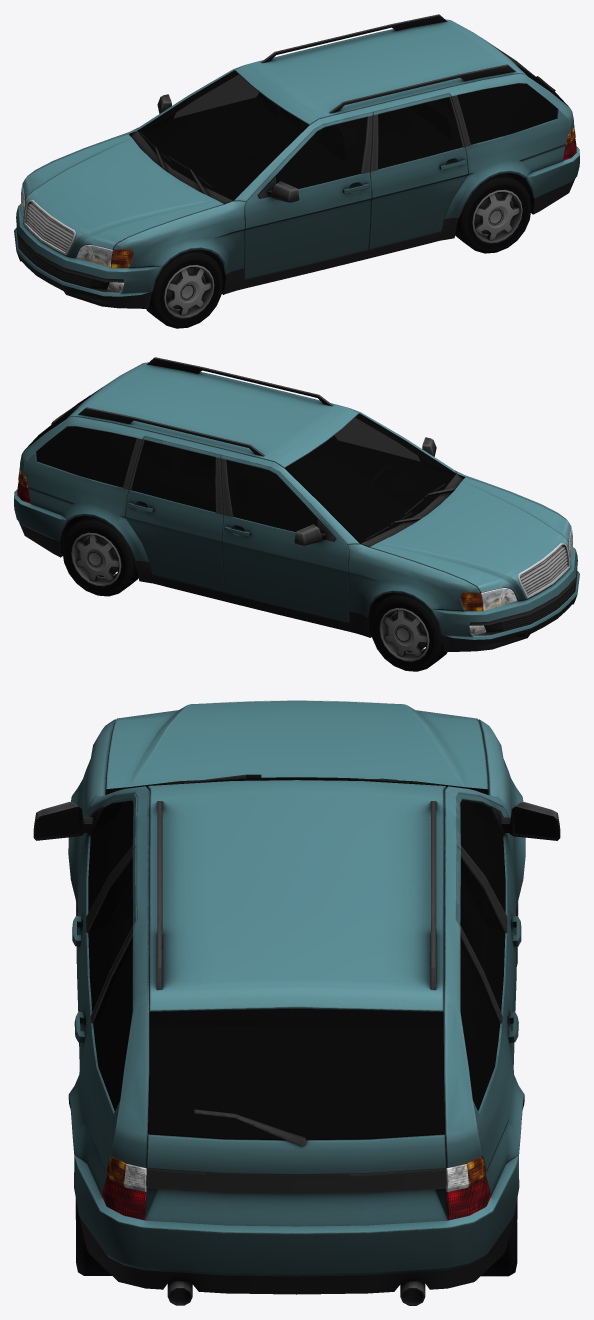
Rendered from lightblueCar.glb.
3 renders of one model, top to bottom at view 1: azimuth 30°, elevation 25°; view 2: azimuth 150°, elevation 25°; view 3: azimuth 270°, elevation 25°, orthographic. The views are drawn at different scales.
Visible parts, largest first — view 1: Wagon Body_Body_0.001, Wagon Body_Glass_0.001, Wheel_A001_Wheel_0.002, Wheel_A_Wheel_0.002, Wagon Body_Optics_0.001; view 2: Wagon Body_Body_0.001, Wagon Body_Glass_0.001, Wheel_A003_Wheel_0.002, Wheel_A002_Wheel_0.002, Wagon Body_Optics_0.001; view 3: Wagon Body_Body_0.001, Wagon Body_Glass_0.001, Wagon Body_Optics_0.001, Wheel_A003_Wheel_0.002, Wheel_A001_Wheel_0.002.
Boxes of the visible parts, left/top/right/bottom form: Wagon Body_Body_0.001: left=14, top=14, right=579, bottom=308; Wagon Body_Glass_0.001: left=137, top=37, right=569, bottom=200; Wheel_A001_Wheel_0.002: left=455, top=173, right=531, bottom=253; Wheel_A_Wheel_0.002: left=146, top=249, right=223, bottom=328; Wagon Body_Optics_0.001: left=21, top=124, right=576, bottom=292; Wagon Body_Body_0.001: left=14, top=357, right=579, bottom=651; Wagon Body_Glass_0.001: left=25, top=381, right=456, bottom=543; Wheel_A003_Wheel_0.002: left=62, top=516, right=138, bottom=596; Wheel_A002_Wheel_0.002: left=370, top=592, right=447, bottom=671; Wagon Body_Optics_0.001: left=17, top=467, right=572, bottom=635; Wagon Body_Body_0.001: left=33, top=700, right=560, bottom=1305; Wagon Body_Glass_0.001: left=88, top=777, right=505, bottom=1139; Wagon Body_Optics_0.001: left=102, top=1156, right=490, bottom=1220; Wheel_A003_Wheel_0.002: left=481, top=1198, right=517, bottom=1276; Wheel_A001_Wheel_0.002: left=75, top=1198, right=111, bottom=1275.
Size of the model in its own units: 4.38 by 1.38 by 1.95.
Materials: 4 (3 with a texture image).
